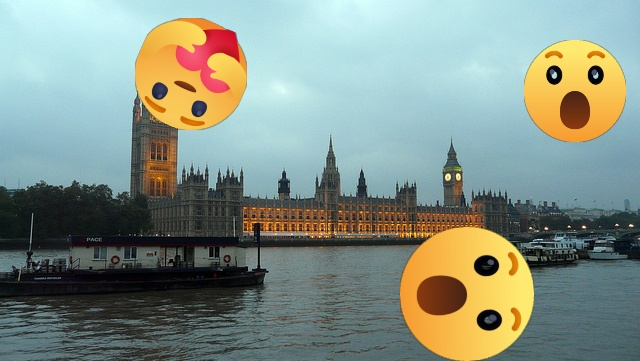care: (135, 18, 247, 130)
wow: (400, 227, 534, 361), (524, 40, 626, 142)
